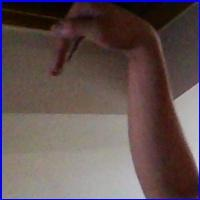A: (48, 1, 155, 80)
